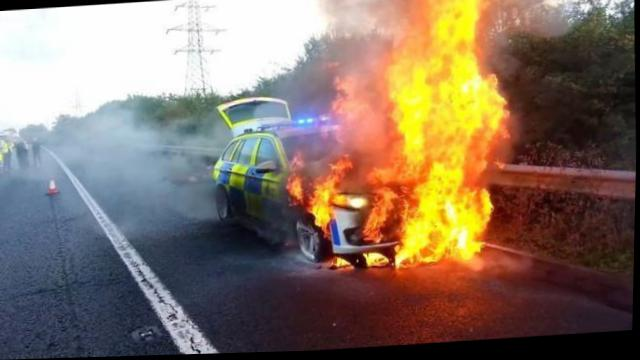fire: (297, 0, 513, 279)
